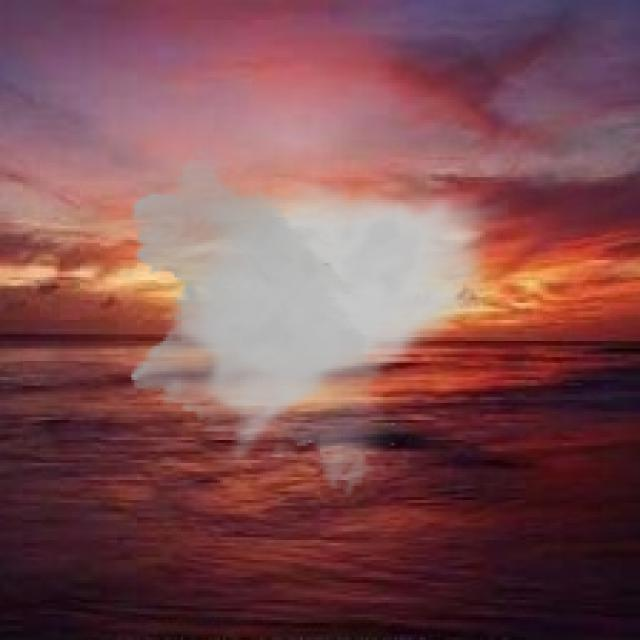Smoke: (120, 148, 509, 498)
